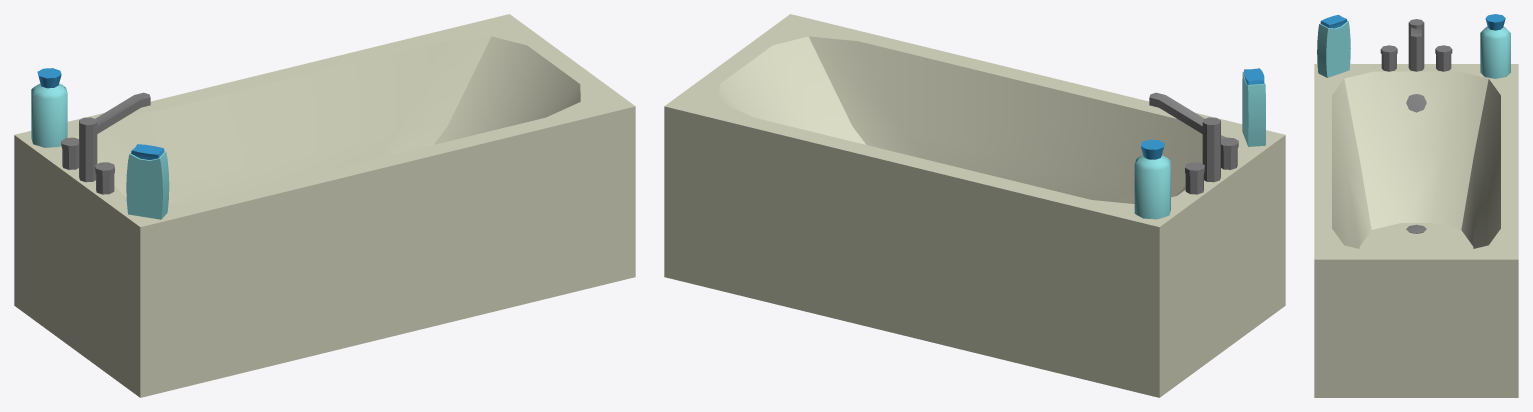
File: Tina.fbx
3 renders of one model, left to right at view 1: azimuth 30°, elevation 25°; view 2: azimuth 150°, elevation 25°; view 3: azimuth 270°, elevation 25°, orthographic. The views are drawn at different scales.
Parts seen in each view (by area): view 1: Bathtub.001, ShowerGel1.003, ShowerGel2.011, MixerBase.004, MixerBase.005, MixerBase.006; view 2: Bathtub.001, ShowerGel2.011, MixerBase.004, ShowerGel1.003, MixerBase.006, MixerBase.005; view 3: Bathtub.001, ShowerGel1.003, ShowerGel2.011, MixerBase.004, MixerBase.005, MixerBase.006, WaterExit.004.
Boxes of the visible parts, x1=… form: Bathtub.001: x1=14, y1=14, x2=635, y2=397; ShowerGel1.003: x1=126, y1=144, x2=169, y2=219; ShowerGel2.011: x1=31, y1=68, x2=67, y2=147; MixerBase.004: x1=79, y1=92, x2=150, y2=182; MixerBase.005: x1=95, y1=162, x2=114, y2=194; MixerBase.006: x1=61, y1=137, x2=78, y2=169; Bathtub.001: x1=664, y1=14, x2=1285, y2=397; ShowerGel2.011: x1=1134, y1=139, x2=1170, y2=219; MixerBase.004: x1=1149, y1=92, x2=1220, y2=182; ShowerGel1.003: x1=1242, y1=68, x2=1265, y2=146; MixerBase.006: x1=1185, y1=162, x2=1204, y2=194; MixerBase.005: x1=1221, y1=137, x2=1238, y2=169; Bathtub.001: x1=1314, y1=64, x2=1518, y2=397; ShowerGel1.003: x1=1317, y1=14, x2=1350, y2=77; ShowerGel2.011: x1=1480, y1=14, x2=1510, y2=78; MixerBase.004: x1=1408, y1=19, x2=1424, y2=71; MixerBase.005: x1=1380, y1=45, x2=1397, y2=71; MixerBase.006: x1=1435, y1=45, x2=1452, y2=71; WaterExit.004: x1=1406, y1=94, x2=1426, y2=112.
Size of the model in its own units: 170 by 78.59 by 75.
